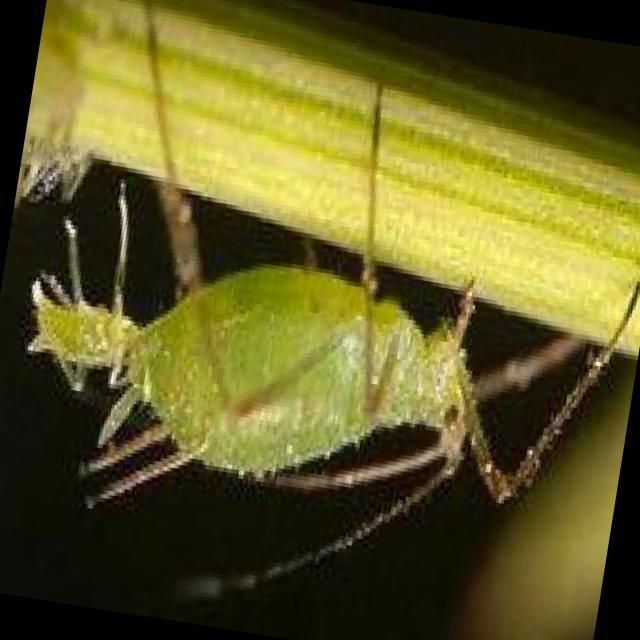aphid: (10, 48, 563, 598)
